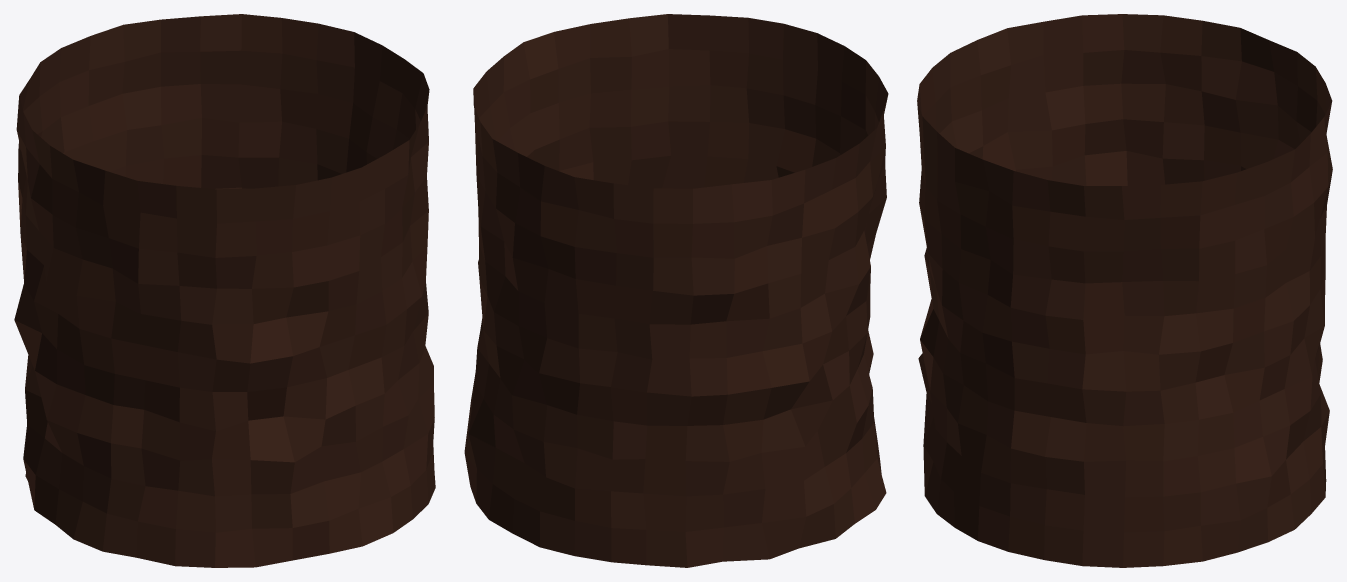
File: PitWalls.fbx
3 renders of one model, left to right at view 1: azimuth 30°, elevation 25°; view 2: azimuth 150°, elevation 25°; view 3: azimuth 270°, elevation 25°, orthographic.
Visible parts, largest first — view 1: Cylinder; view 2: Cylinder; view 3: Cylinder.
Boxes of the visible parts, box(x1,y1,x2,y2) form: Cylinder: box(14, 14, 435, 567); Cylinder: box(464, 14, 888, 567); Cylinder: box(917, 14, 1332, 567).
Bounding box in the file's own units: 3980 × 3985 × 3968.
